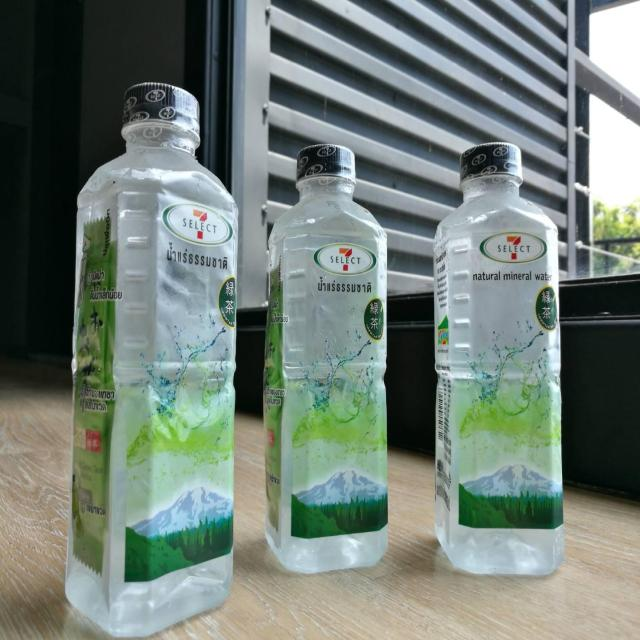bottle: (55, 71, 244, 640), (418, 133, 586, 589), (257, 135, 400, 580)
